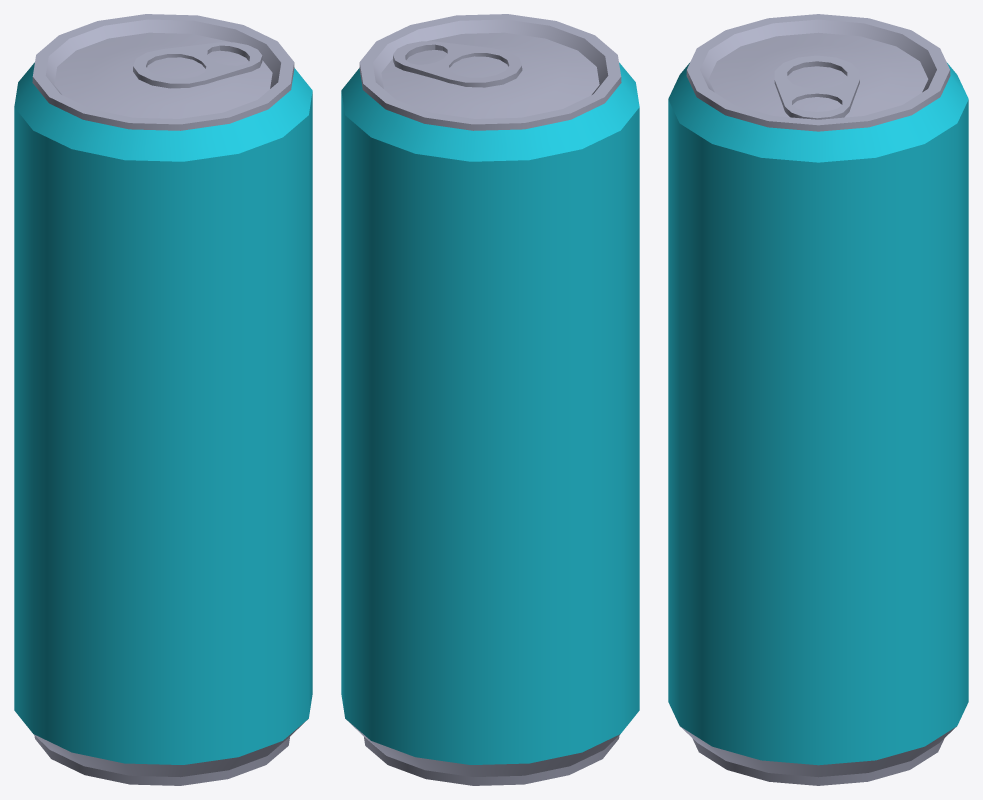
Rendered from Misc_BeverageCan_02.fbx.
3 views of the same model, side by side, from view 1: azimuth 30°, elevation 25°; view 2: azimuth 150°, elevation 25°; view 3: azimuth 270°, elevation 25° (orthographic).
Visible parts, largest first — view 1: Misc_BeverageCan_02.001; view 2: Misc_BeverageCan_02.001; view 3: Misc_BeverageCan_02.001.
Part boxes in pixels (x1,y1,x2,y2): Misc_BeverageCan_02.001: (14, 14, 312, 785); Misc_BeverageCan_02.001: (341, 14, 639, 785); Misc_BeverageCan_02.001: (668, 14, 968, 785).
Bounding box in the file's own units: 0.0693 × 0.1688 × 0.0693.
